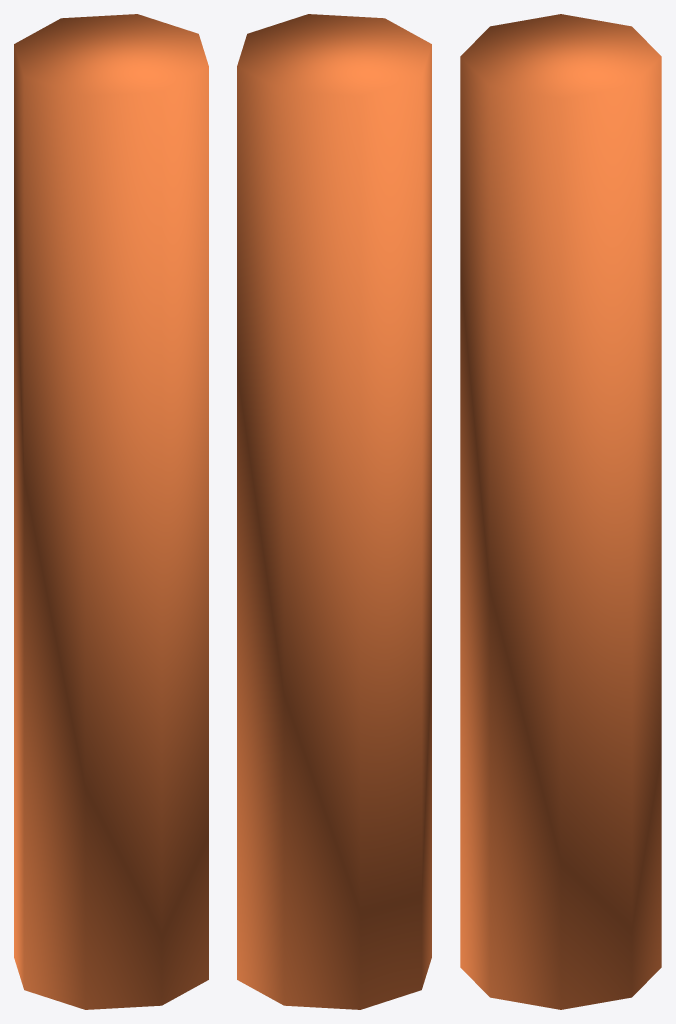
Rendered from Viga Madeira.fbx.
The picture shows the model from 3 angles, left to right: view 1: azimuth 30°, elevation 25°; view 2: azimuth 150°, elevation 25°; view 3: azimuth 270°, elevation 25°; orthographic projection.
Parts seen in each view (by area): view 1: Viga Madeira; view 2: Viga Madeira; view 3: Viga Madeira.
Boxes of the visible parts, box(x1,y1,x2,y2) form: Viga Madeira: box(14, 14, 208, 1009); Viga Madeira: box(237, 14, 431, 1009); Viga Madeira: box(460, 14, 661, 1009).
Size of the model in its own units: 22.22 by 111 by 22.22.
